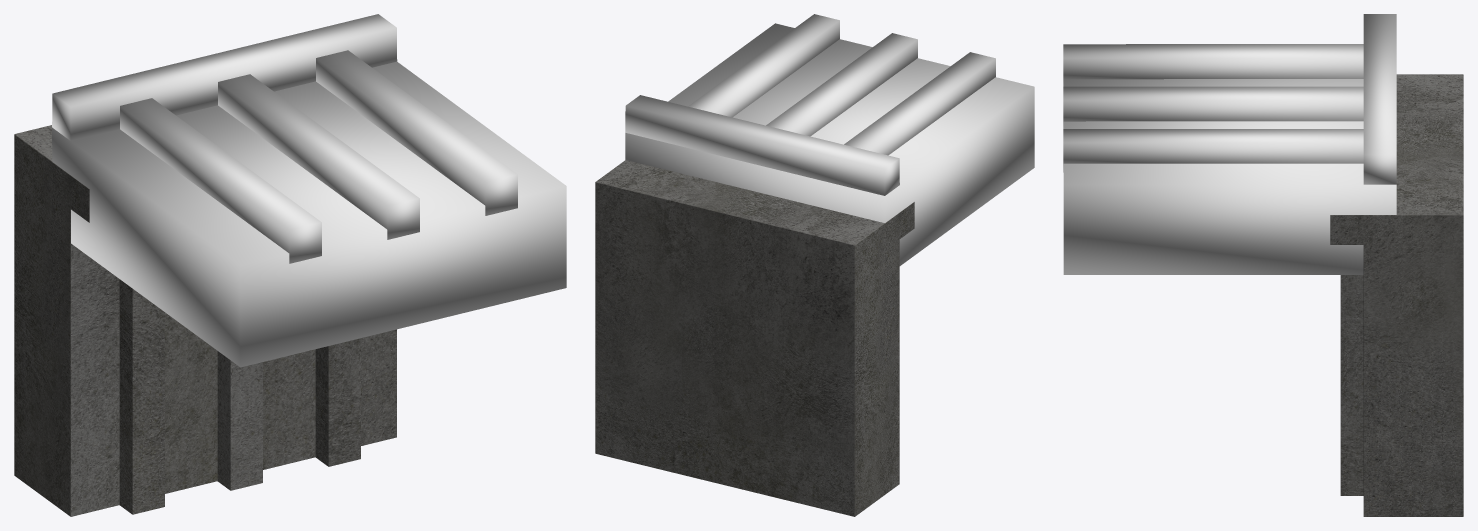
The model's file is SM_DocksBorders.fbx.
The picture shows the model from 3 angles, left to right: view 1: azimuth 30°, elevation 25°; view 2: azimuth 150°, elevation 25°; view 3: azimuth 270°, elevation 25°; orthographic projection. The views are drawn at different scales.
Parts seen in each view (by area): view 1: SM_DocksBorders_ConvexHulls, SM_DocksBorders; view 2: SM_DocksBorders, SM_DocksBorders_ConvexHulls; view 3: SM_DocksBorders_ConvexHulls, SM_DocksBorders.
Boxes of the visible parts, <box> form: SM_DocksBorders_ConvexHulls: <box>52,14,566,367</box>; SM_DocksBorders: <box>14,125,396,516</box>; SM_DocksBorders: <box>595,160,914,516</box>; SM_DocksBorders_ConvexHulls: <box>625,14,1034,265</box>; SM_DocksBorders_ConvexHulls: <box>1063,14,1396,274</box>; SM_DocksBorders: <box>1330,74,1463,516</box>.
Size of the model in its own units: 10 by 11.99 by 12.
